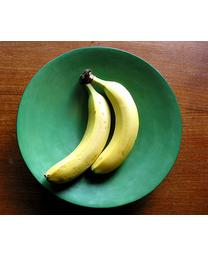banana: (44, 79, 110, 184), (78, 70, 138, 178)
